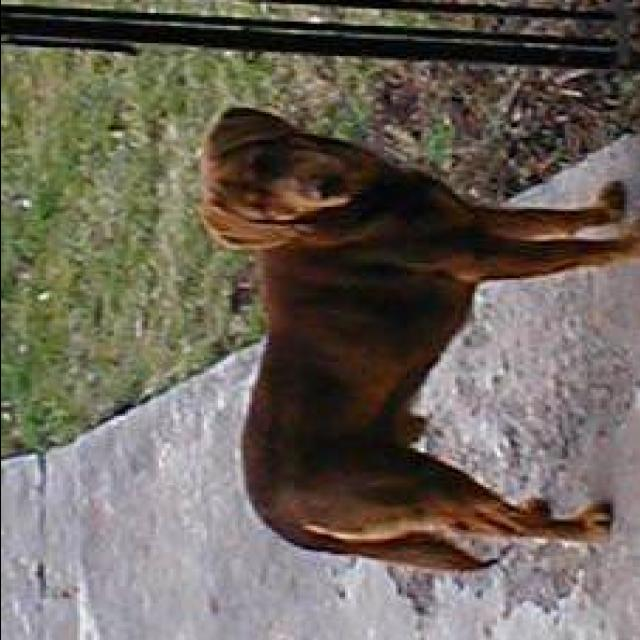dog: (149, 79, 639, 640)
